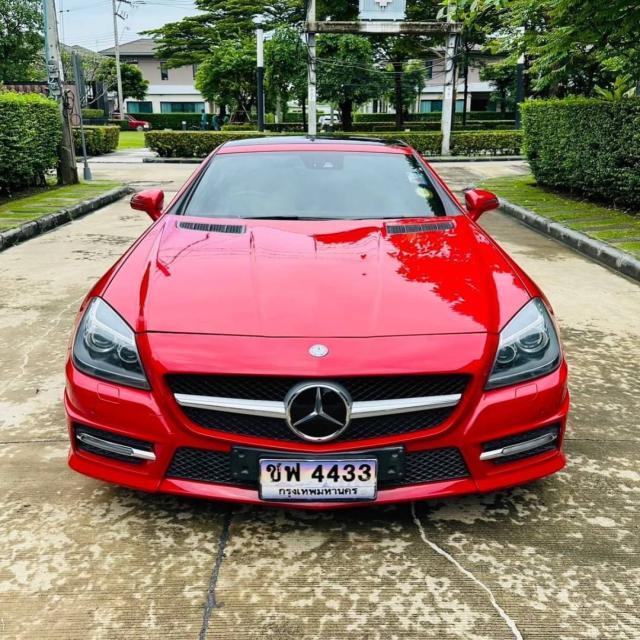license_plate: (252, 451, 382, 512)
